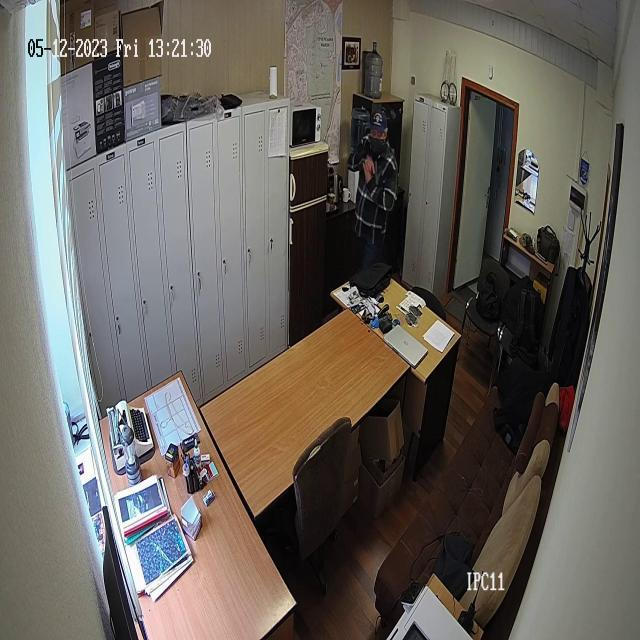pistol: (371, 147, 384, 191)
